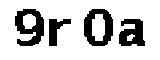0: (79, 5, 116, 52)
9: (8, 5, 44, 51)
a: (116, 17, 150, 52)
r: (44, 16, 74, 50)
